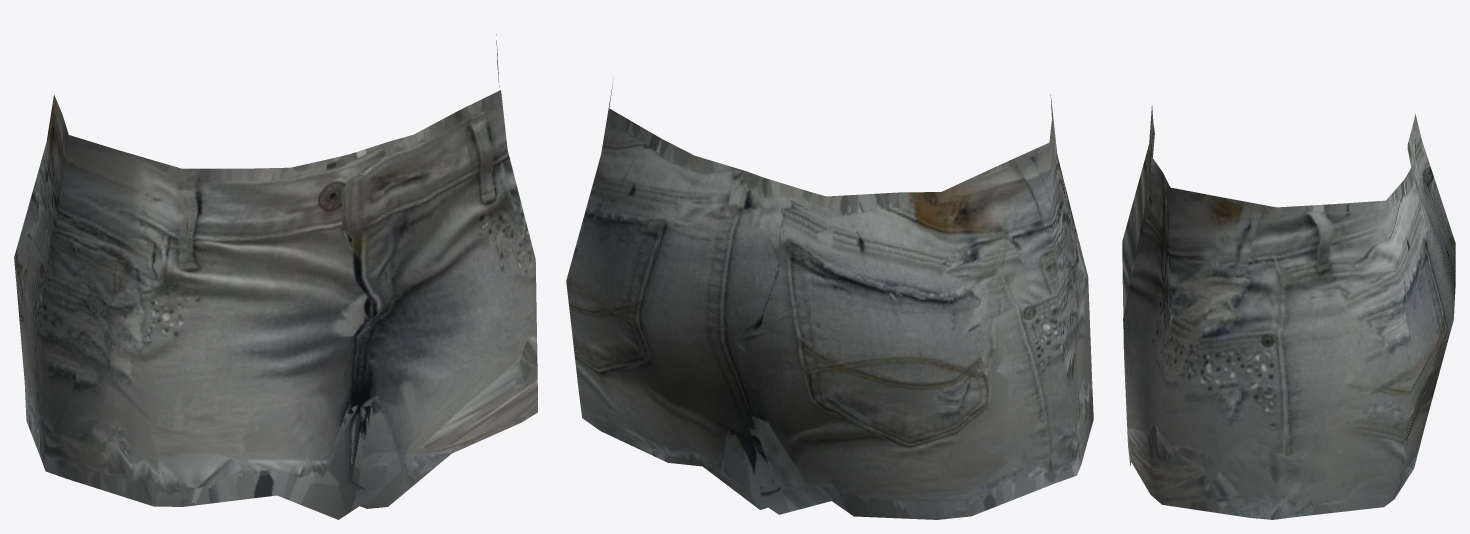
File: 008-shell.glb
3 renders of one model, left to right at view 1: azimuth 30°, elevation 25°; view 2: azimuth 150°, elevation 25°; view 3: azimuth 270°, elevation 25°, orthographic. The views are drawn at different scales.
Parts seen in each view (by area): view 1: geometry_0; view 2: geometry_0; view 3: geometry_0.
Part boxes in pixels (left/top/right/bottom): geometry_0: left=14, top=34, right=537, bottom=519; geometry_0: left=566, top=79, right=1093, bottom=519; geometry_0: left=1122, top=105, right=1455, bottom=519.
Size of the model in its own units: 0.3423 by 0.2603 by 0.226.
1 material, 1 textured.
